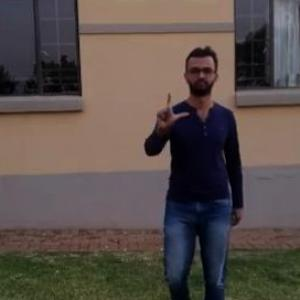land_hand: (153, 90, 191, 132)
